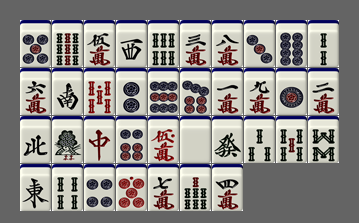0m: (148, 116, 179, 163)
0p: (116, 164, 147, 211)
0s: (84, 68, 115, 115)
1m: (212, 68, 243, 115)
1p: (276, 68, 307, 115)
1s: (52, 116, 83, 163)
1z: (20, 164, 51, 211)
2m: (308, 68, 339, 115)
2p: (116, 68, 147, 115)
2s: (308, 20, 339, 67)
2z: (52, 68, 83, 115)
3m: (180, 20, 211, 67)
3p: (244, 20, 275, 67)
3s: (244, 116, 275, 163)
3z: (116, 20, 147, 67)
4m: (212, 164, 243, 211)
4p: (84, 164, 115, 211)
4s: (52, 164, 83, 211)
4z: (20, 116, 51, 163)
5m: (84, 20, 115, 67)
5p: (20, 20, 51, 67)
5s: (276, 116, 307, 163)
5z: (180, 116, 211, 163)
6m: (20, 68, 51, 115)
6p: (116, 116, 147, 163)
6s: (148, 20, 179, 67)
6z: (212, 116, 243, 163)
7m: (148, 164, 179, 211)
7p: (180, 68, 211, 115)
7s: (180, 164, 211, 211)
7z: (84, 116, 115, 163)
8m: (212, 20, 243, 67)
8p: (276, 20, 307, 67)
8s: (308, 116, 339, 163)
9m: (244, 68, 275, 115)
9p: (148, 68, 179, 115)
9s: (52, 20, 83, 67)
